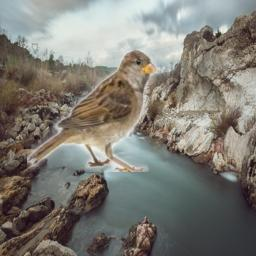Sparrow: (27, 50, 157, 172)
